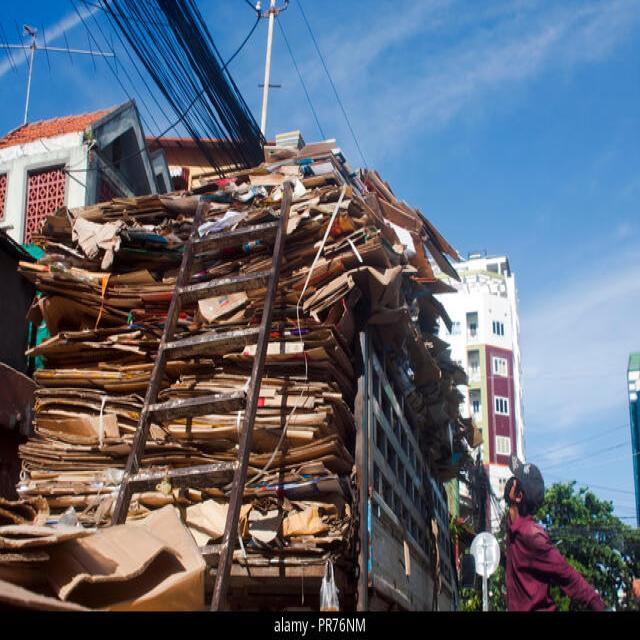cardboard: (53, 320, 127, 506), (272, 360, 334, 528)
